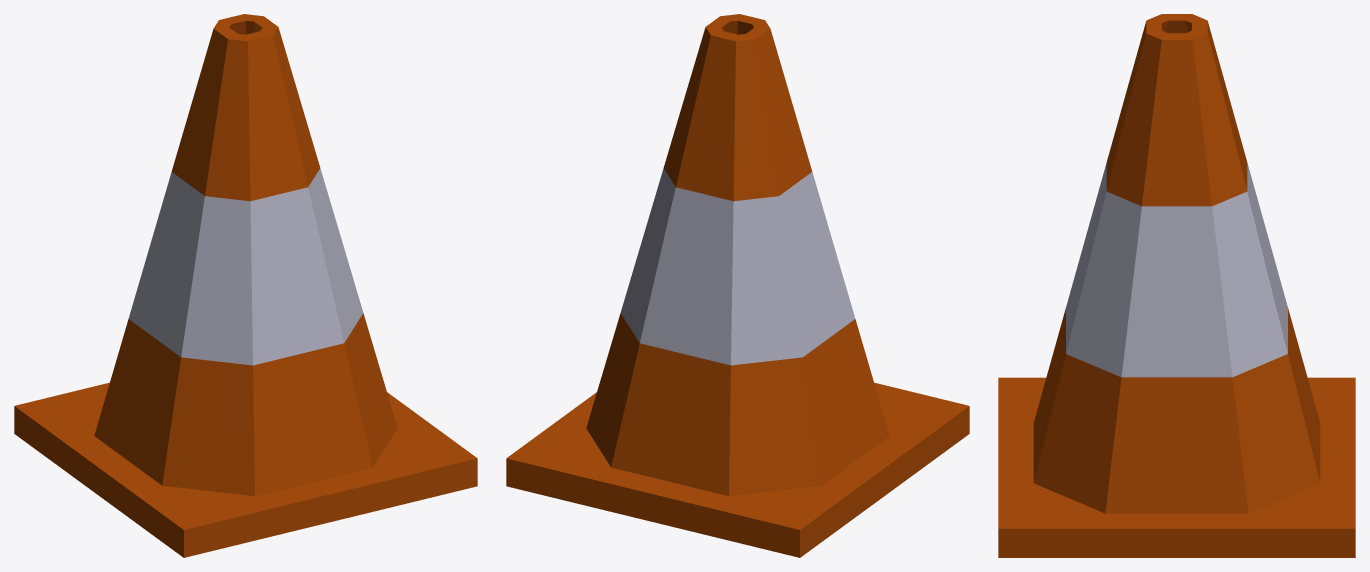
3 views of the same model, side by side, from view 1: azimuth 30°, elevation 25°; view 2: azimuth 150°, elevation 25°; view 3: azimuth 270°, elevation 25° (orthographic). The views are drawn at different scales.
Parts seen in each view (by area): view 1: Cone; view 2: Cone; view 3: Cone.
Boxes of the visible parts, x1=… form: Cone: x1=14, y1=14, x2=477, y2=557; Cone: x1=506, y1=14, x2=969, y2=557; Cone: x1=998, y1=14, x2=1355, y2=557.
Size of the model in its own units: 90.06 by 127 by 90.06.
